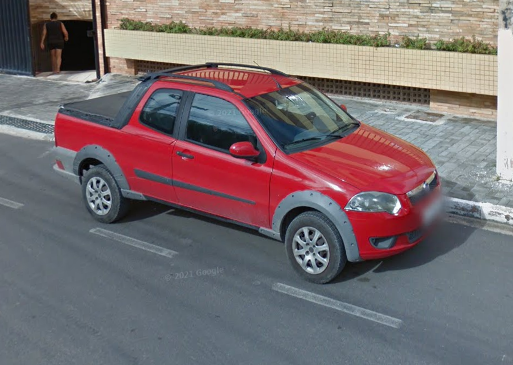car: (51, 59, 443, 288)
